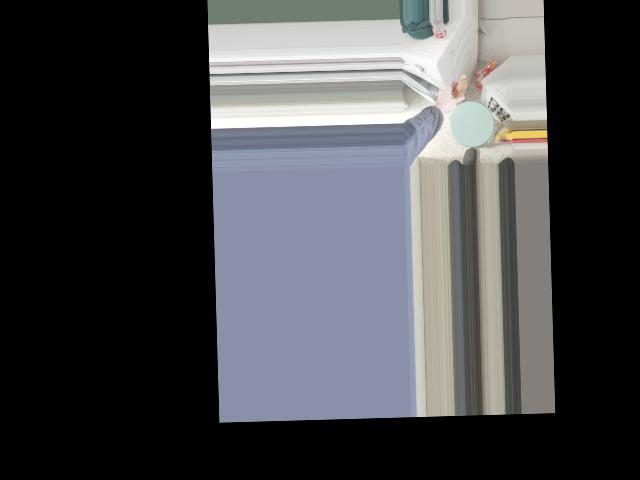sweet_potato: (445, 75, 467, 112)
